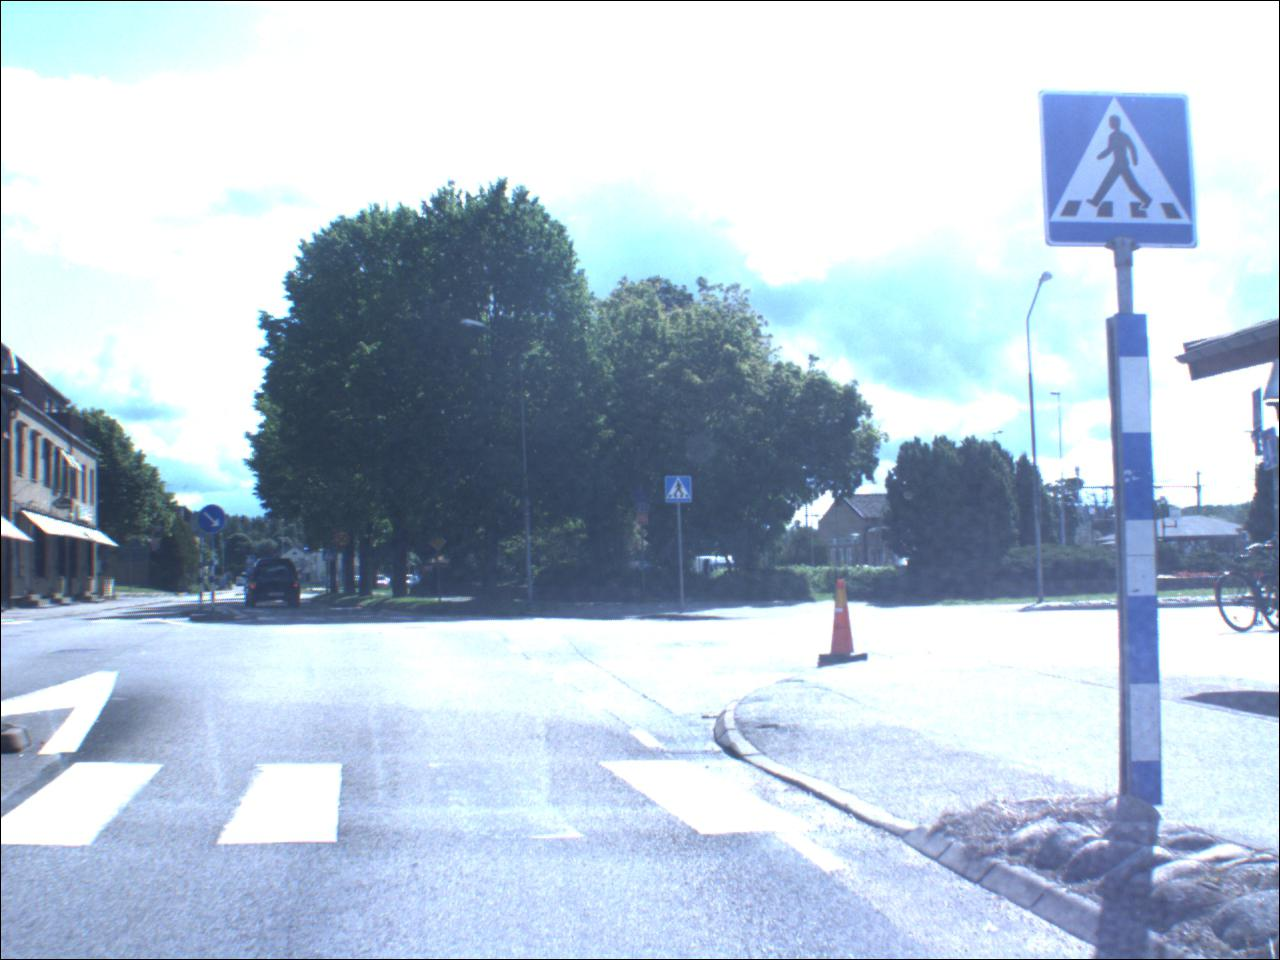50_SIGN: (336, 532, 355, 548)
PASS_RIGHT_SIDE: (200, 505, 230, 538)
PEDESTRIAN_CROSSING: (1039, 92, 1198, 252), (667, 478, 695, 505), (325, 550, 339, 564), (249, 556, 258, 567)
PRIORITY_ROAD: (433, 536, 449, 553)
